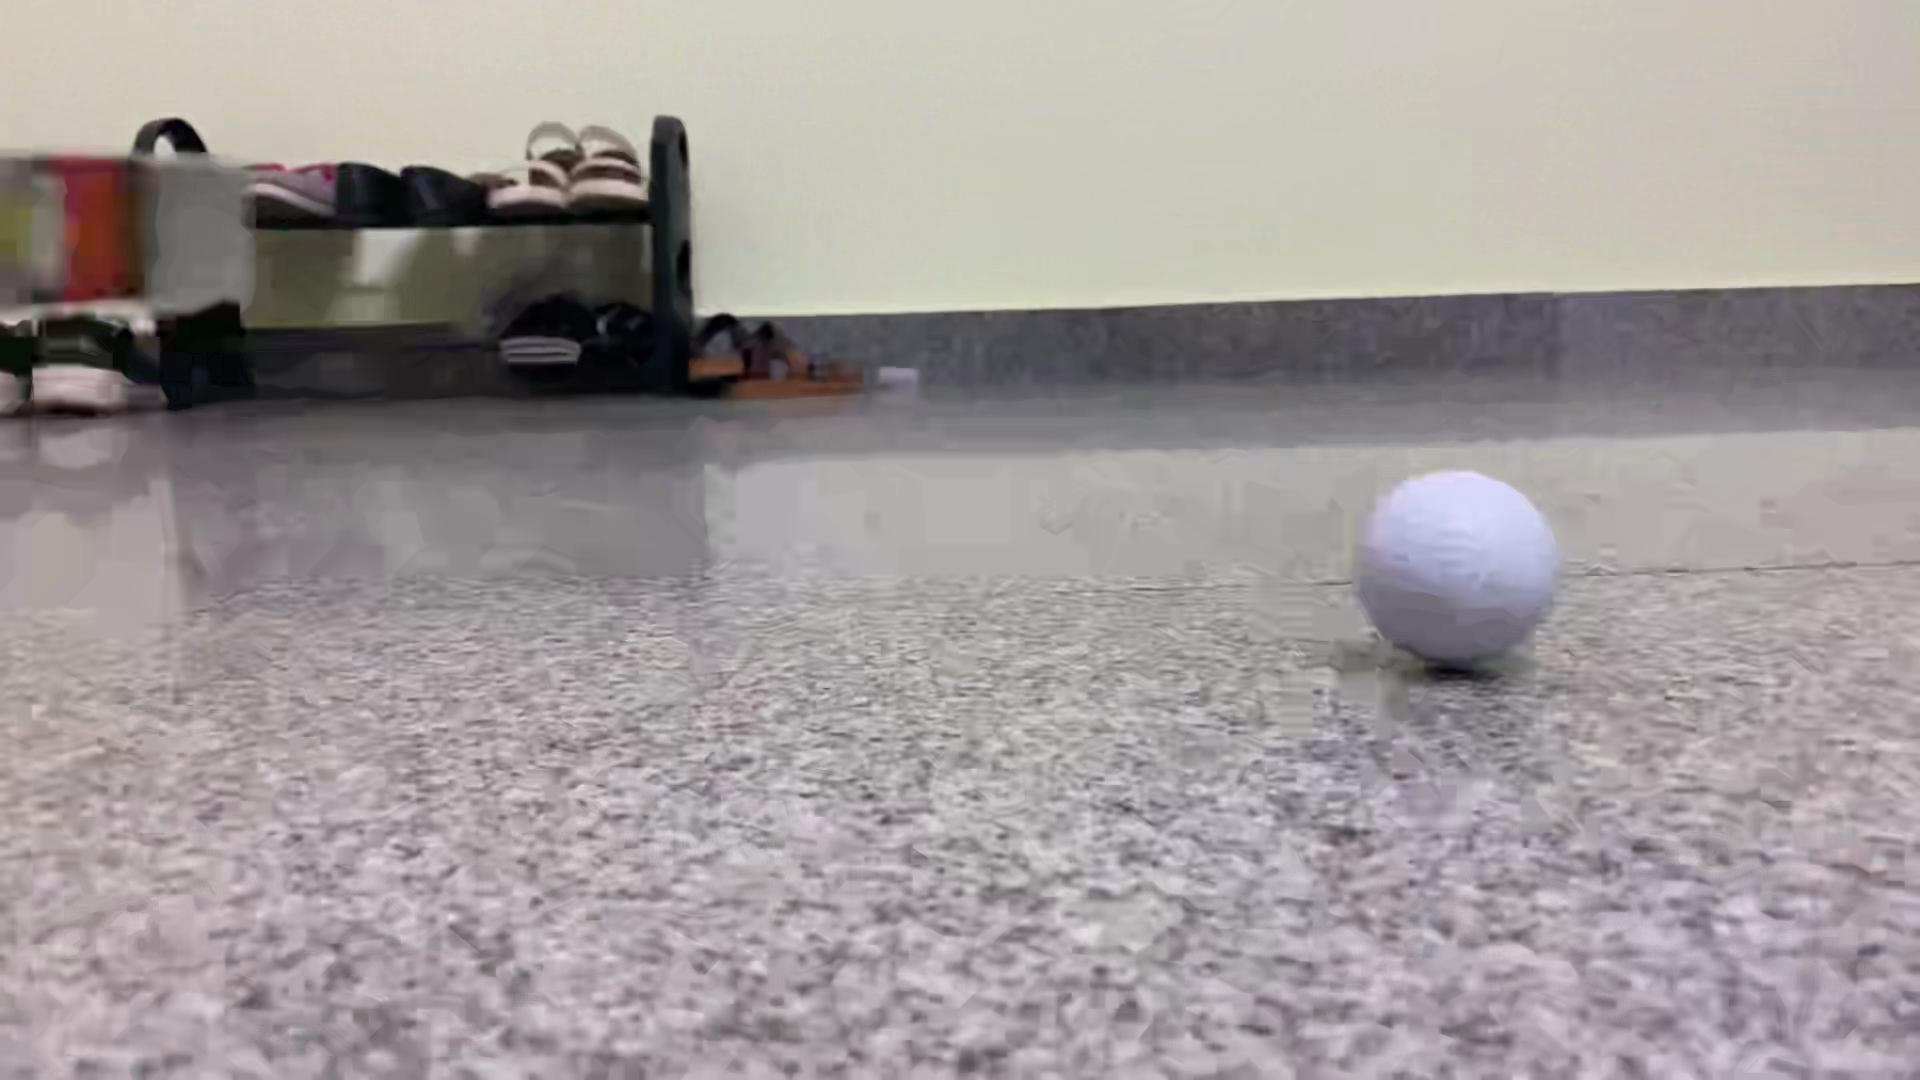golfball: (1350, 473, 1560, 666)
